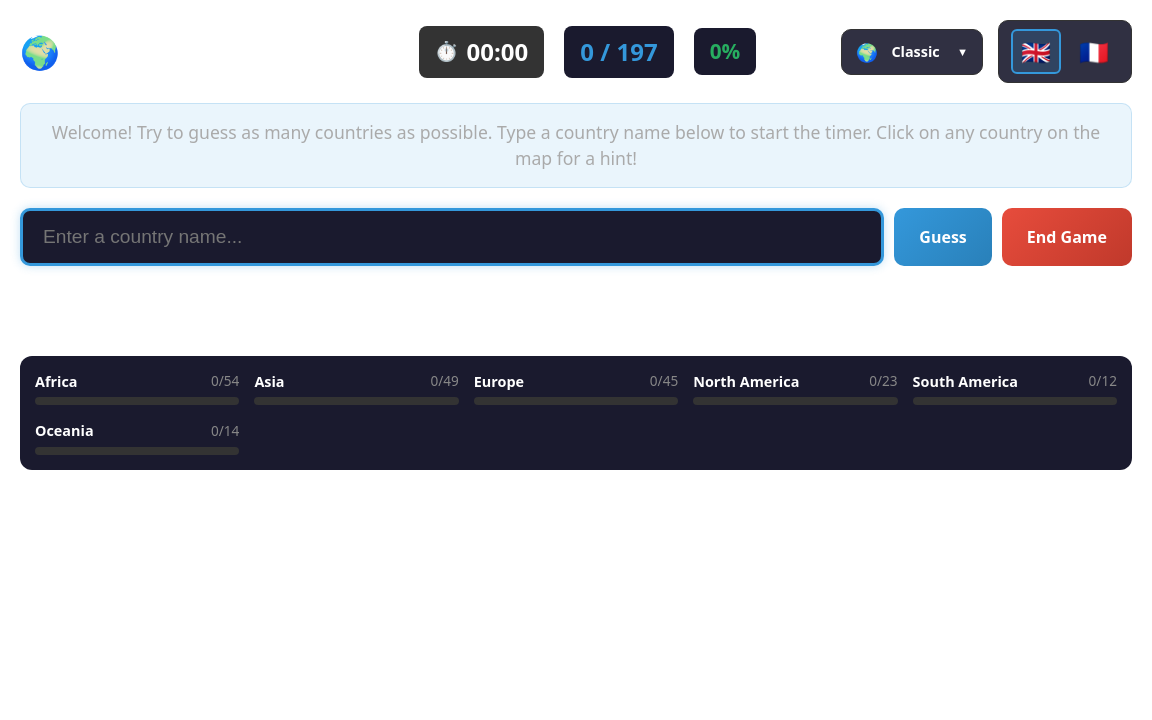
Test: Game Component › country guessing flow › should accept correct country guess
Type "France" into the field with placeholder "Enter a country name..." at (452, 237), box [20,208,884,266]
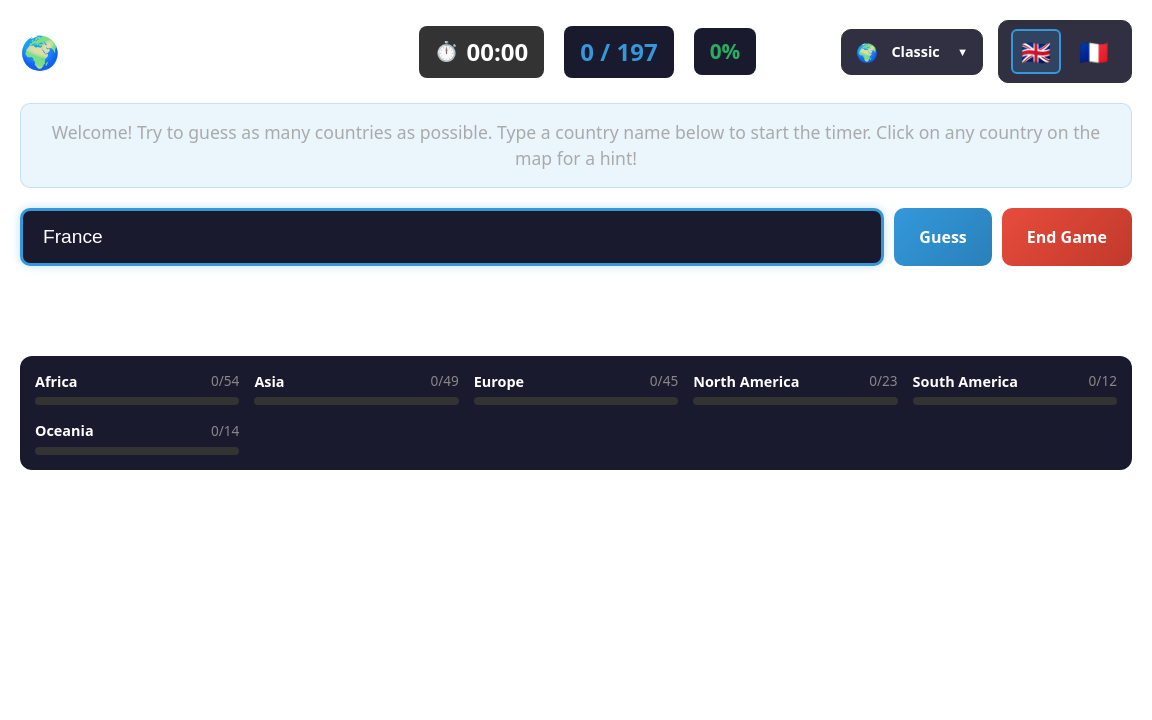
Click the button "Guess" at (943, 237), box [894,208,992,266]
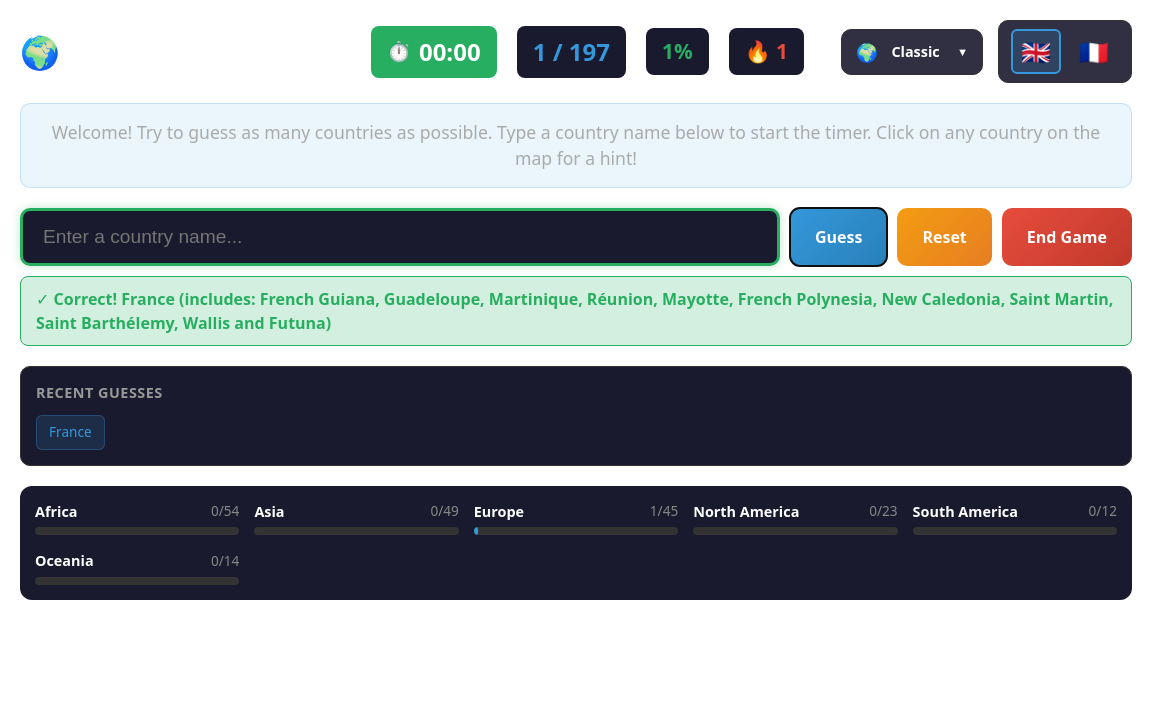
Expected: the text "Correct!" is shown, [54,288,117,310]
